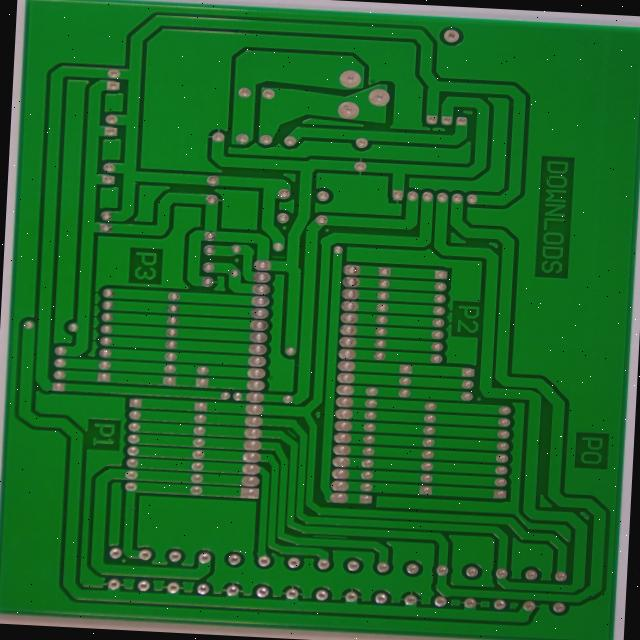spurious_copper: (374, 519, 420, 535), (339, 400, 363, 422), (322, 207, 345, 218)
